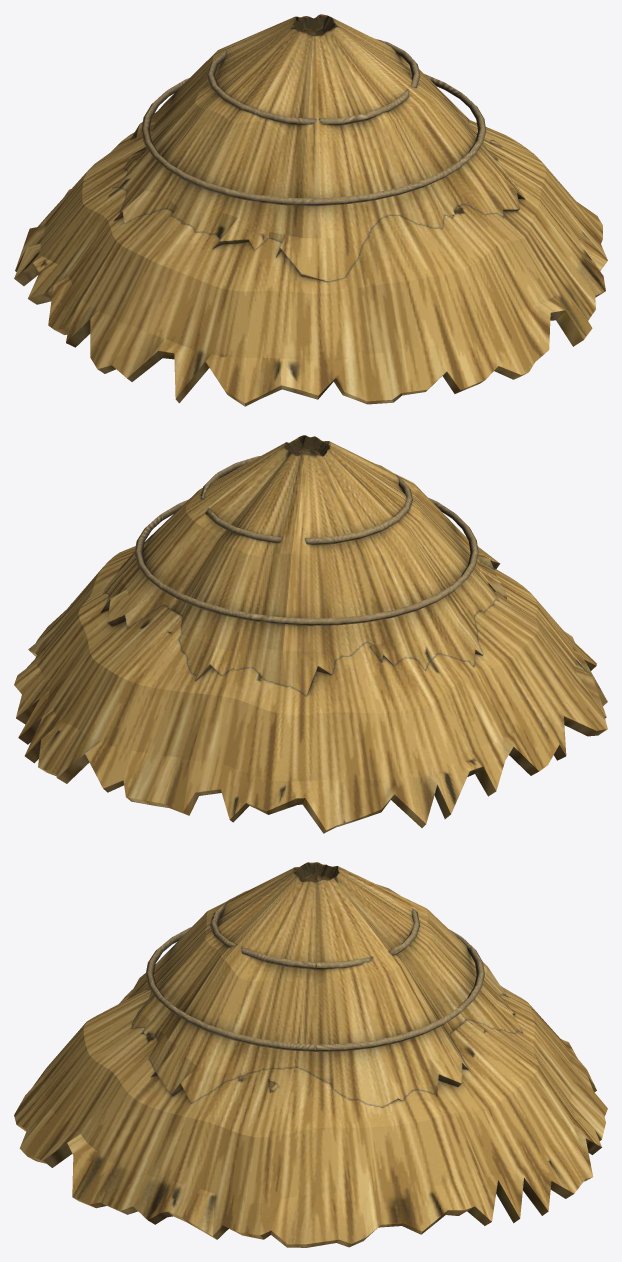
File: granary_thatch.gltf
3 views of the same model, one above another, from view 1: azimuth 30°, elevation 25°; view 2: azimuth 150°, elevation 25°; view 3: azimuth 270°, elevation 25° (orthographic).
Parts seen in each view (by area): view 1: granary_thatch; view 2: granary_thatch; view 3: granary_thatch.
Boxes of the visible parts, left/top/right/bottom form: granary_thatch: left=14, top=14, right=607, bottom=406; granary_thatch: left=14, top=435, right=607, bottom=833; granary_thatch: left=14, top=862, right=607, bottom=1247.
Size of the model in its own units: 3.24 by 1.62 by 3.23.
Materials: 2 (2 with a texture image).
